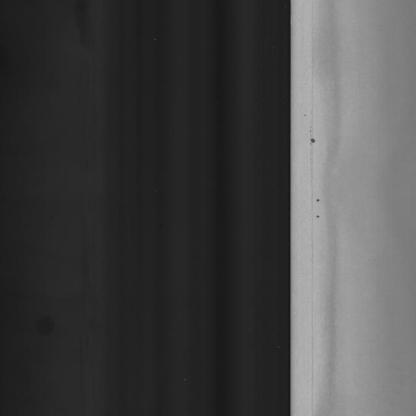oil_spot: (313, 191, 322, 225), (308, 132, 318, 145)
